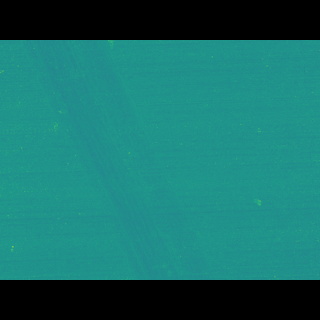Loch: (18, 71, 219, 250)
